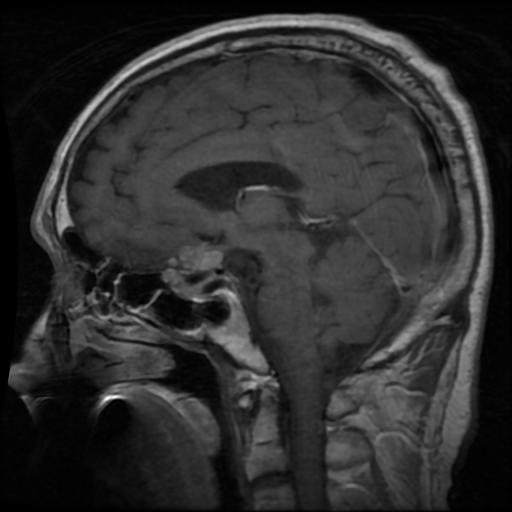Pituirity_tumour: (165, 247, 227, 298)
